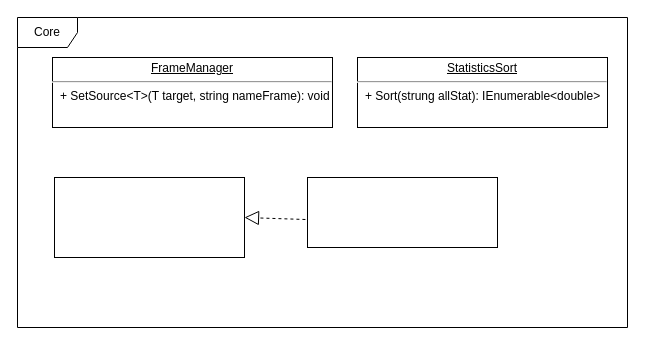
Image size: 645x345. Some labels were removed from this diagram. Here are the shapes that lost their labels. From the top down, the centre of each, then its label:
At (x=149, y=217): "<<Interface>> ISettingsManager + StartTcp(): Task + GetDataTcp(object?): void".
At (x=402, y=212): "SettingsManger + StartTcp(): Task + GetDataTcp(object?): void".
